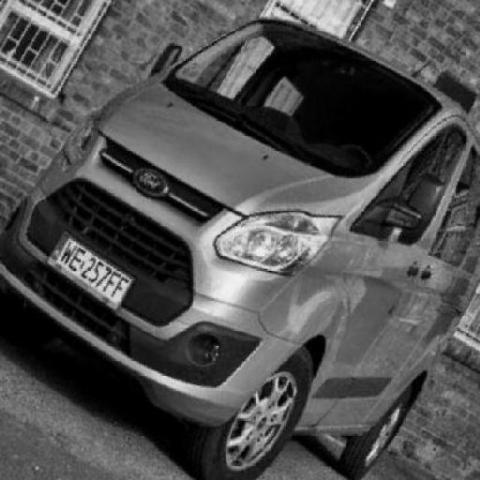van: (3, 17, 480, 476)
